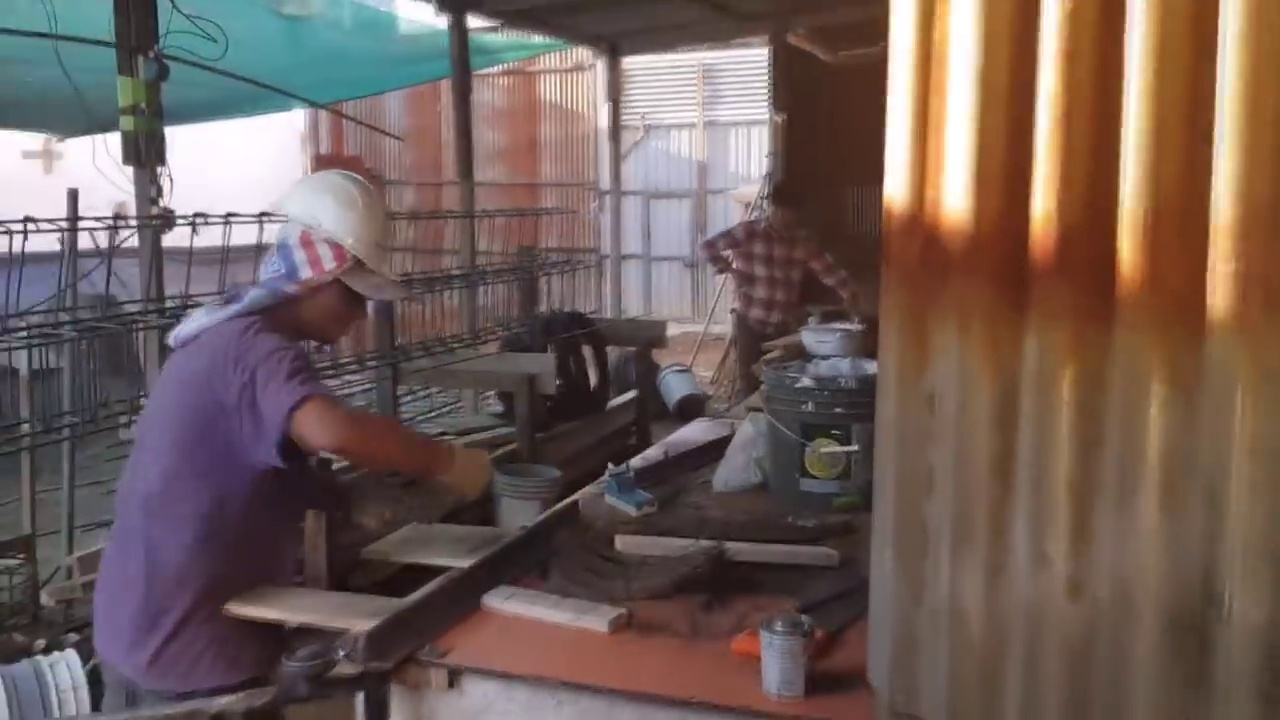helmet: (271, 167, 391, 279)
helmet-off: (759, 180, 803, 240)
helmet-on: (250, 164, 386, 340)
person: (112, 150, 502, 718), (700, 177, 868, 405)
